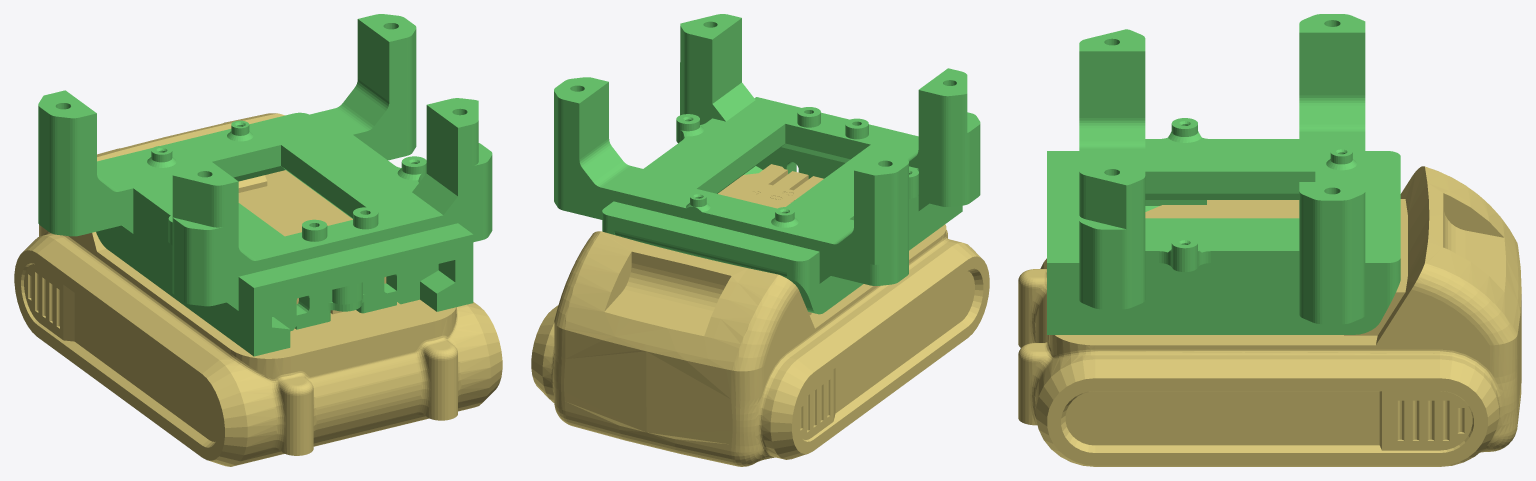
Rendered from assembly_battery.dae.
The picture shows the model from 3 angles, left to right: view 1: azimuth 30°, elevation 25°; view 2: azimuth 150°, elevation 25°; view 3: azimuth 270°, elevation 25°; orthographic projection. The views are drawn at different scales.
Visible parts, largest first — view 1: Assembly_Battery_002; view 2: Assembly_Battery_002; view 3: Assembly_Battery_002.
Boxes of the visible parts, left/top/right/bottom form: Assembly_Battery_002: left=14, top=14, right=502, bottom=466; Assembly_Battery_002: left=531, top=14, right=989, bottom=466; Assembly_Battery_002: left=1018, top=14, right=1521, bottom=466.
Bounding box in the file's own units: 1 × 1.14 × 0.7457.
